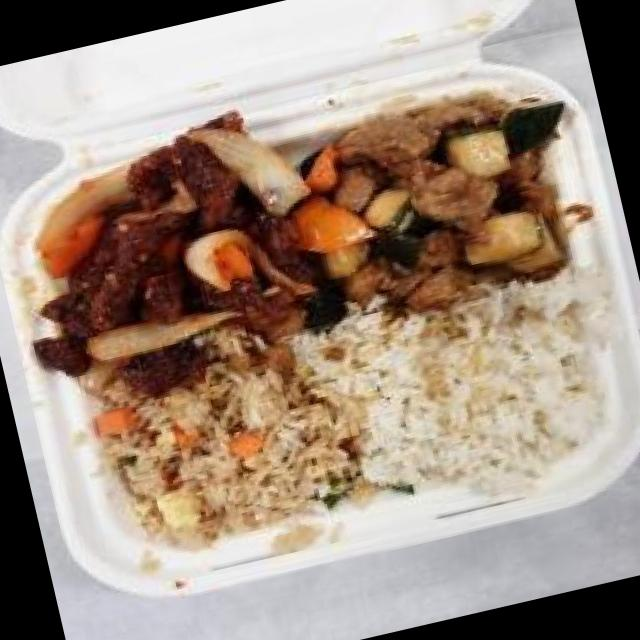Beijing Beef: (0, 101, 335, 419)
Fried Rice: (98, 337, 375, 565)
Kung Pao Chicken: (280, 72, 608, 342)
White Steamed Rice: (330, 272, 622, 508)
